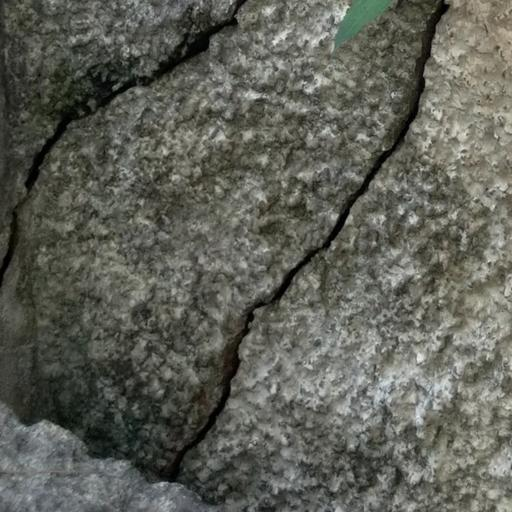major_crack: (161, 0, 490, 485), (1, 0, 255, 288)
